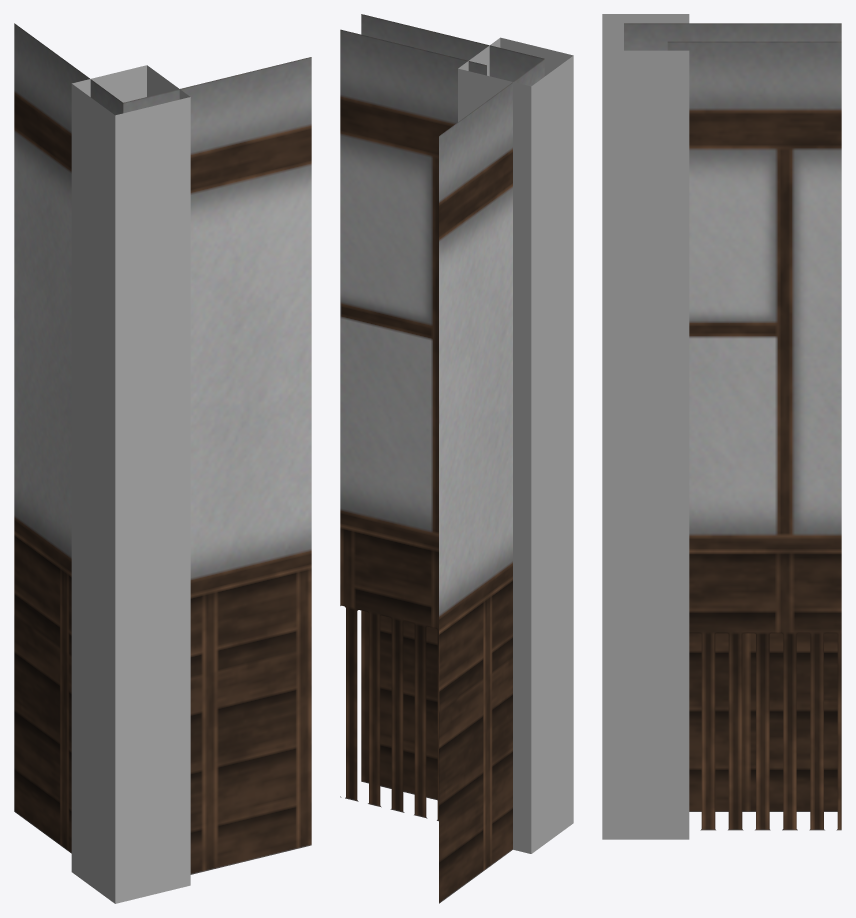
File: house_corner_1.fbx
3 renders of one model, left to right at view 1: azimuth 30°, elevation 25°; view 2: azimuth 150°, elevation 25°; view 3: azimuth 270°, elevation 25°, orthographic. The views are drawn at different scales.
Visible parts, largest first — view 1: house_corner_1; view 2: house_corner_1; view 3: house_corner_1.
Part boxes in pixels (x1,y1,x2,y2): house_corner_1: (14,23,311,903); house_corner_1: (340,14,573,903); house_corner_1: (602,14,841,839).
Size of the model in its own units: 110 by 400 by 110.
